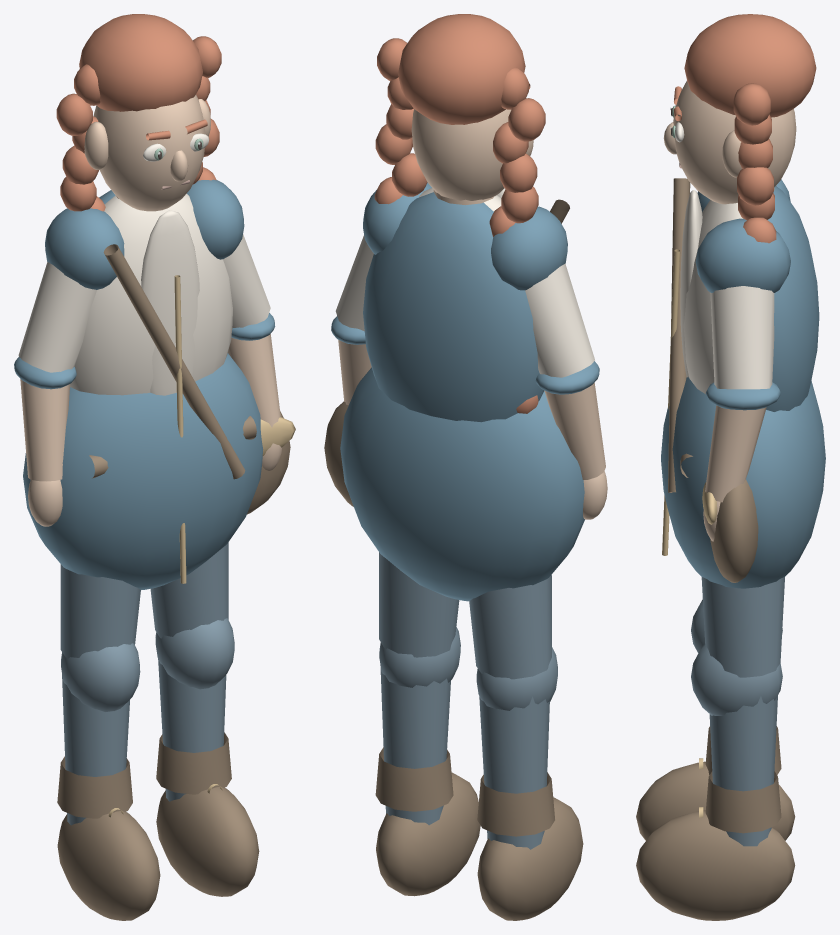
The model's file is Lyra.glb.
3 views of the same model, side by side, from view 1: azimuth 30°, elevation 25°; view 2: azimuth 150°, elevation 25°; view 3: azimuth 270°, elevation 25° (orthographic). The views are drawn at different scales.
Visible parts, largest first — view 1: Lyra_lookdev; view 2: Lyra_lookdev; view 3: Lyra_lookdev.
Part boxes in pixels (box(x1,y1,x2,y2)): Lyra_lookdev: box(14, 14, 295, 920); Lyra_lookdev: box(324, 14, 607, 920); Lyra_lookdev: box(636, 14, 825, 920).
Size of the model in its own units: 0.5242 by 1.64 by 0.322.
